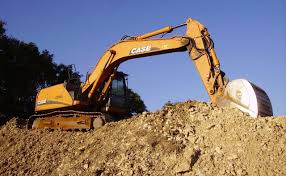excavator: (26, 16, 274, 133)
